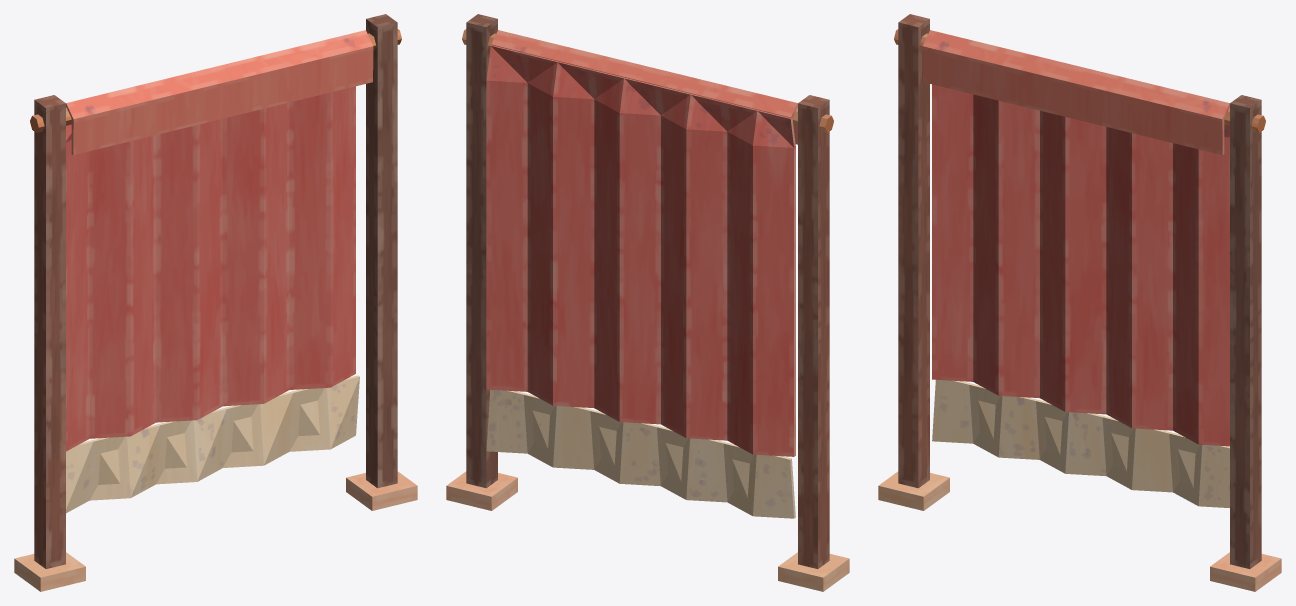
File: rack_red_low.fbx
The picture shows the model from 3 angles, left to right: view 1: azimuth 30°, elevation 25°; view 2: azimuth 150°, elevation 25°; view 3: azimuth 330°, elevation 25°; orthographic projection.
Visible parts, largest first — view 1: rack_red; view 2: rack_red; view 3: rack_red.
Part boxes in pixels (x1,y1,x2,y2): rack_red: [14, 14, 417, 591]; rack_red: [446, 14, 849, 591]; rack_red: [878, 14, 1281, 591].
Size of the model in its own units: 8.3 by 10 by 1.
1 material, 1 textured.
